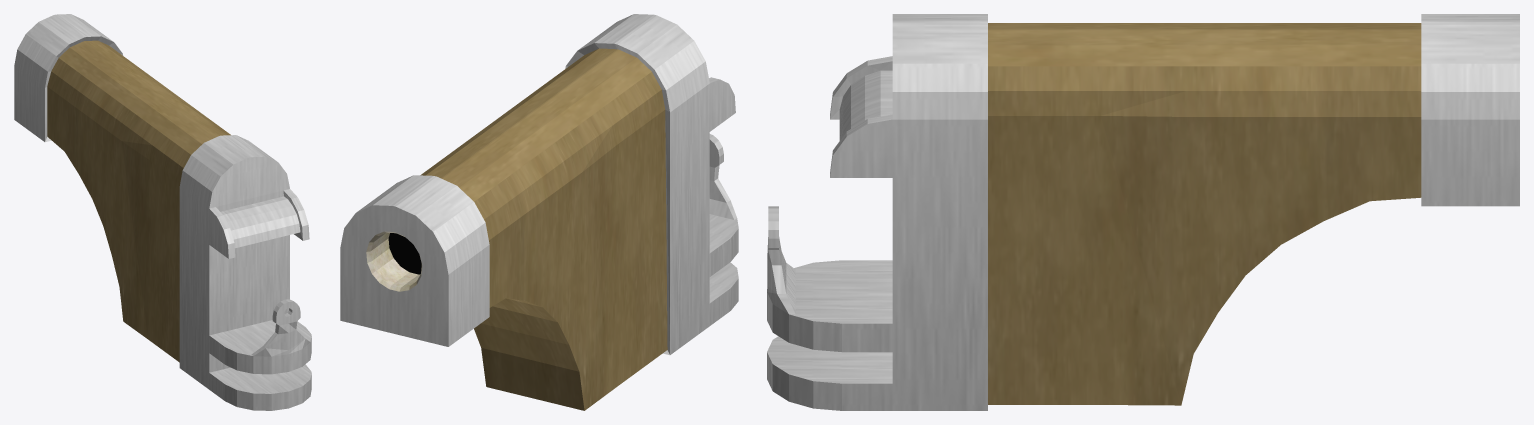
File: launcher.fbx
3 views of the same model, side by side, from view 1: azimuth 30°, elevation 25°; view 2: azimuth 150°, elevation 25°; view 3: azimuth 270°, elevation 25° (orthographic). The views are drawn at different scales.
Parts seen in each view (by area): view 1: launcher; view 2: launcher; view 3: launcher.
Part boxes in pixels (x1=…): launcher: x1=14, y1=14, x2=311, y2=410; launcher: x1=340, y1=14, x2=738, y2=410; launcher: x1=767, y1=14, x2=1519, y2=410.
Size of the model in its own units: 1.79 by 4.71 by 8.99.
